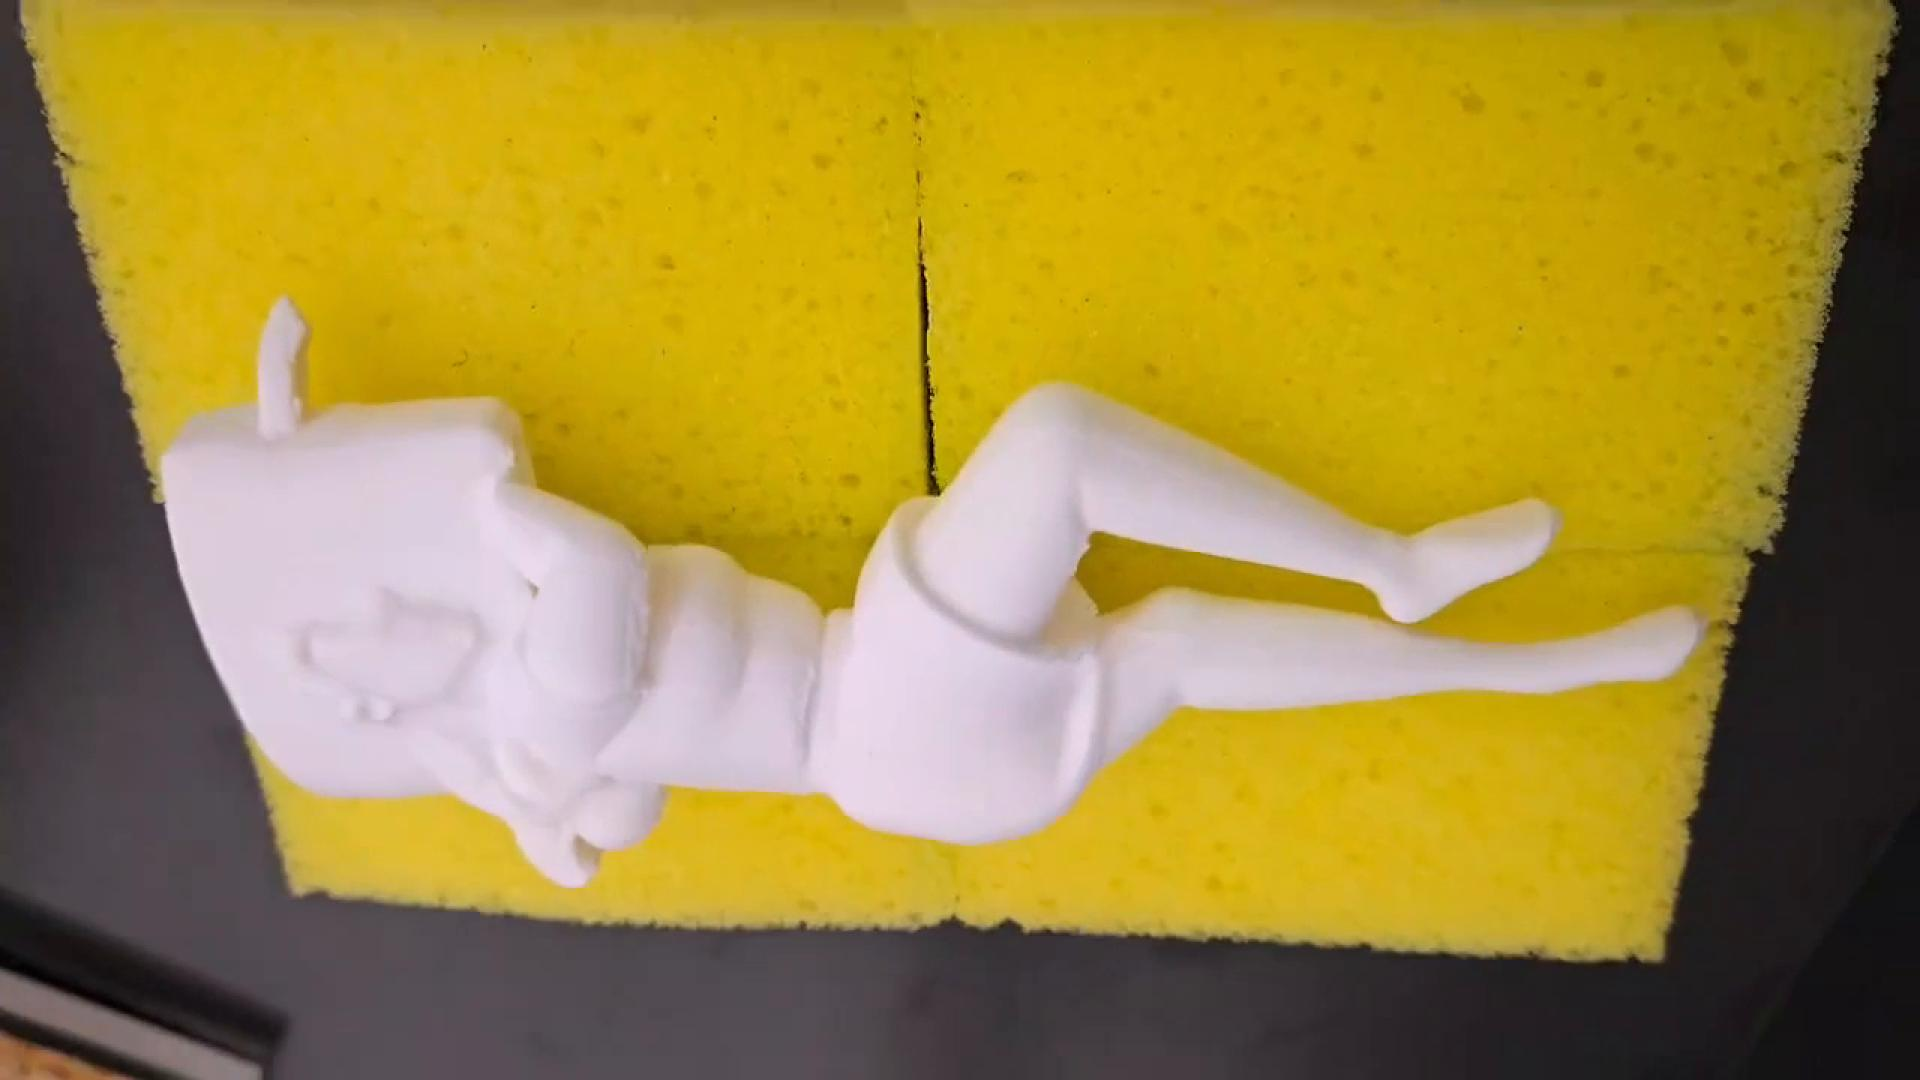Good-style: (161, 303, 1700, 889)
